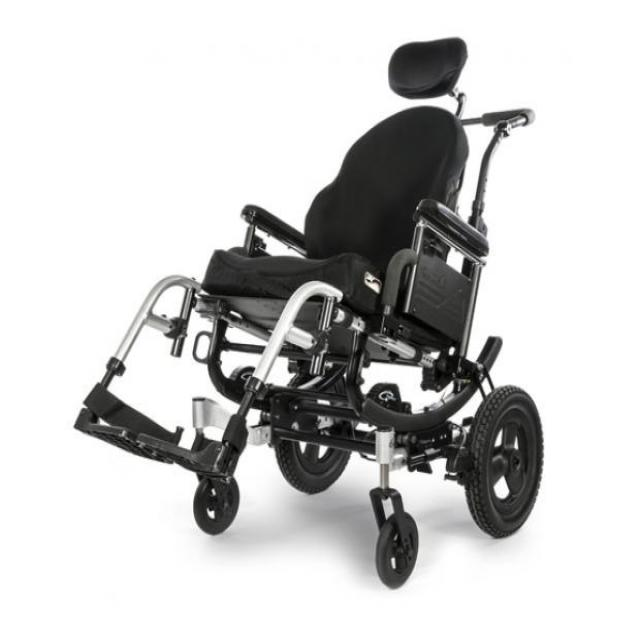wheelchair: (56, 21, 577, 591)
